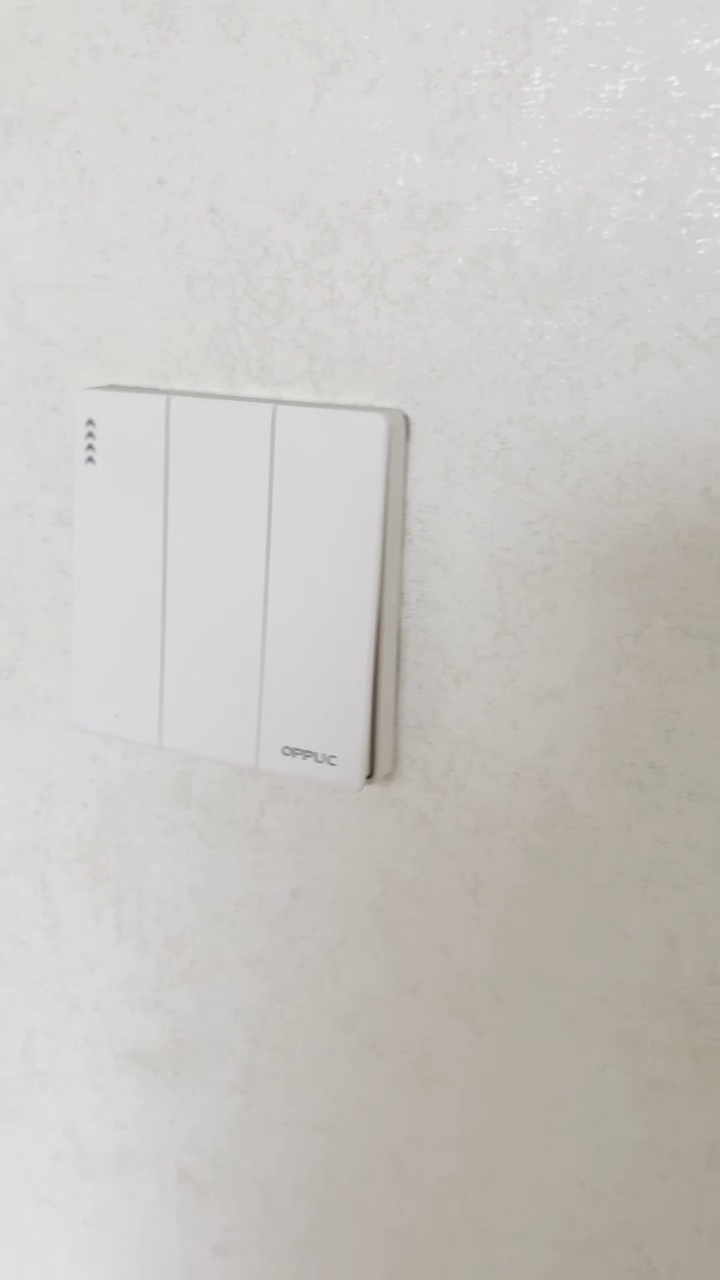button1: (264, 403, 386, 777), (163, 395, 265, 764), (80, 394, 161, 735)
